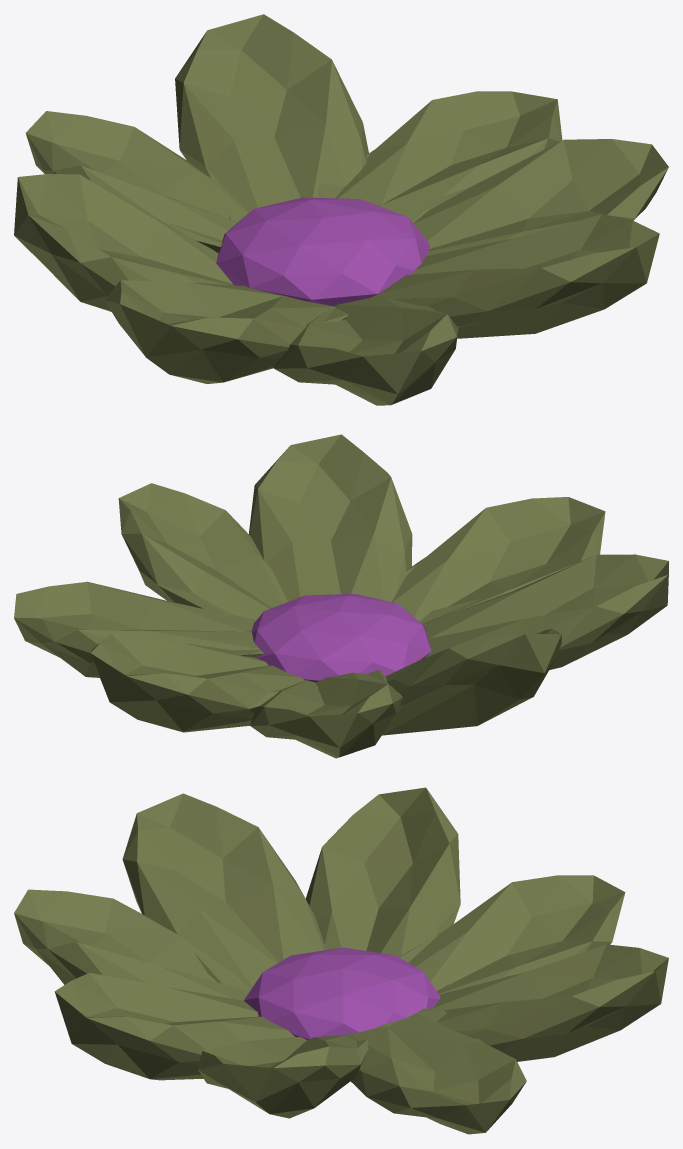
File: Flower_03.fbx
3 views of the same model, one above another, from view 1: azimuth 30°, elevation 25°; view 2: azimuth 150°, elevation 25°; view 3: azimuth 270°, elevation 25° (orthographic). The views are drawn at different scales.
Parts seen in each view (by area): view 1: Icosphere.064, Icosphere.068, Icosphere.061, Icosphere.063, Icosphere.066, Icosphere.062, Icosphere.067, Icosphere.069, Icosphere.065; view 2: Icosphere.068, Icosphere.067, Icosphere.065, Icosphere.063, Icosphere.064, Icosphere.066, Icosphere.061, Icosphere.062, Icosphere.069; view 3: Icosphere.067, Icosphere.062, Icosphere.064, Icosphere.069, Icosphere.068, Icosphere.066, Icosphere.065, Icosphere.061, Icosphere.063.
Boxes of the visible parts, x1,y1,x2,y2 form: Icosphere.064: (175,14,368,221); Icosphere.068: (371,214,659,338); Icosphere.061: (216,197,429,306); Icosphere.063: (413,139,668,255); Icosphere.066: (318,91,562,222); Icosphere.062: (14,174,233,311); Icosphere.067: (104,280,348,383); Icosphere.069: (25,111,248,252); Icosphere.065: (273,297,458,405); Icosphere.068: (249,434,412,606); Icosphere.067: (420,554,668,669); Icosphere.065: (391,497,605,624); Icosphere.063: (118,483,287,619); Icosphere.064: (90,633,317,732); Icosphere.066: (14,581,264,677); Icosphere.061: (252,594,431,682); Icosphere.062: (382,628,561,735); Icosphere.069: (250,669,402,758); Icosphere.067: (122,793,326,991); Icosphere.062: (305,787,460,956); Icosphere.064: (433,944,668,1061); Icosphere.069: (399,875,625,994); Icosphere.068: (54,973,306,1080); Icosphere.066: (346,1008,526,1134); Icosphere.065: (14,889,250,1000); Icosphere.061: (244,947,440,1039); Icosphere.063: (198,1035,368,1118).
Bounding box in the file's own units: 69.94 × 20.55 × 73.55.
